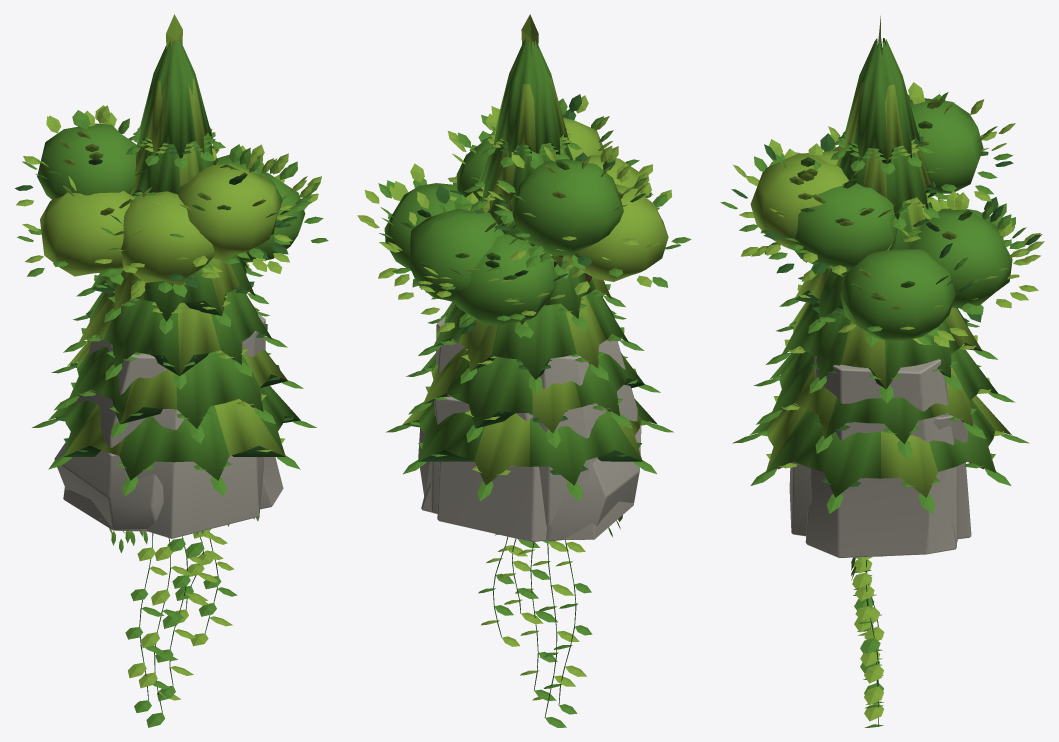
The model's file is CreekBotanicalKit.fbx.
The picture shows the model from 3 angles, left to right: view 1: azimuth 30°, elevation 25°; view 2: azimuth 150°, elevation 25°; view 3: azimuth 270°, elevation 25°; orthographic projection. The views are drawn at different scales.
Parts seen in each view (by area): view 1: Pine_Branching mesh, Tree_Round_Canopy mesh, Rock_Stratum_B mesh, Ivy_Cascade mesh, Rock_Stratum_C mesh, Rock_Stratum_A mesh; view 2: Pine_Branching mesh, Tree_Round_Canopy mesh, Rock_Stratum_B mesh, Rock_Stratum_A mesh, Ivy_Cascade mesh, Rock_Stratum_C mesh; view 3: Pine_Branching mesh, Tree_Round_Canopy mesh, Rock_Stratum_C mesh, Rock_Stratum_A mesh, Ivy_Cascade mesh, Rock_Stratum_B mesh.
Part boxes in pixels (x1,y1,x2,y2): Pine_Branching mesh: [32, 14, 316, 496]; Tree_Round_Canopy mesh: [15, 105, 328, 298]; Rock_Stratum_B mesh: [136, 409, 264, 538]; Ivy_Cascade mesh: [125, 529, 237, 727]; Rock_Stratum_C mesh: [54, 437, 283, 529]; Rock_Stratum_A mesh: [63, 313, 265, 531]; Pine_Branching mesh: [385, 14, 673, 501]; Tree_Round_Canopy mesh: [357, 94, 691, 337]; Rock_Stratum_B mesh: [434, 396, 546, 542]; Rock_Stratum_A mesh: [426, 317, 637, 539]; Ivy_Cascade mesh: [478, 534, 592, 727]; Rock_Stratum_C mesh: [418, 425, 641, 541]; Pine_Branching mesh: [732, 16, 1029, 513]; Tree_Round_Canopy mesh: [720, 82, 1044, 347]; Rock_Stratum_C mesh: [805, 468, 956, 557]; Rock_Stratum_A mesh: [814, 356, 957, 541]; Ivy_Cascade mesh: [852, 556, 884, 727]; Rock_Stratum_B mesh: [789, 415, 971, 539].
Bounding box in the file's own units: 59.49 × 128 × 51.8.
